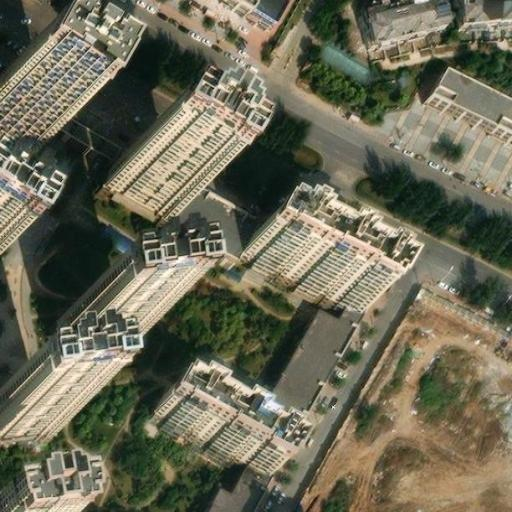building: (185, 180, 383, 290), (258, 301, 357, 437), (240, 222, 376, 314), (165, 383, 296, 473), (406, 312, 512, 410), (317, 427, 410, 512), (119, 139, 205, 209), (436, 60, 512, 125), (66, 290, 153, 343), (0, 69, 61, 141), (205, 457, 273, 512), (311, 37, 374, 88), (0, 383, 62, 433), (365, 0, 453, 30), (461, 0, 512, 16)
